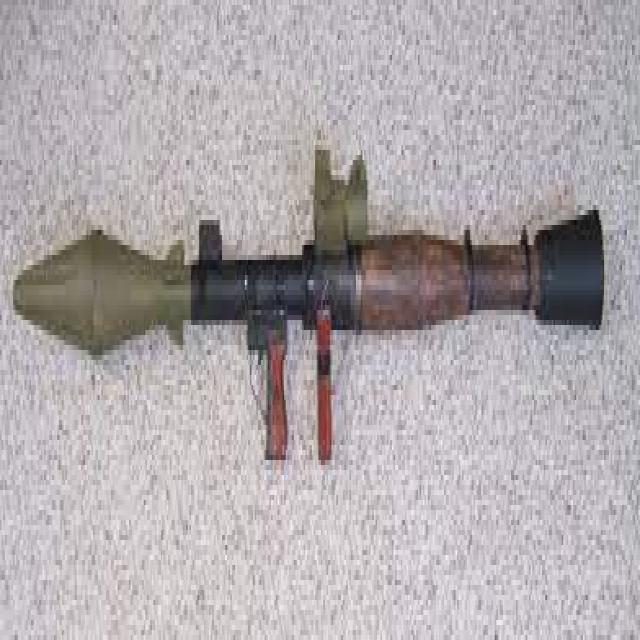Gun: (17, 55, 614, 499)
